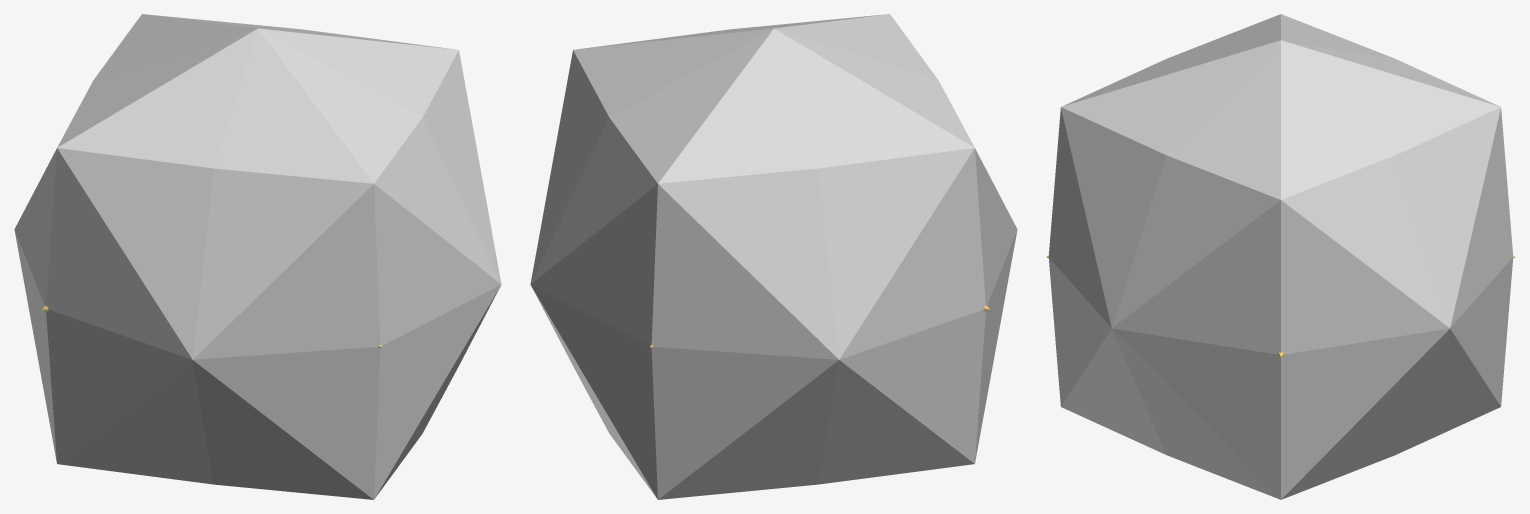
File: CristalSolar.fbx
3 renders of one model, left to right at view 1: azimuth 30°, elevation 25°; view 2: azimuth 150°, elevation 25°; view 3: azimuth 270°, elevation 25°, orthographic. The views are drawn at different scales.
Visible parts, largest first — view 1: Cubo.001; view 2: Cubo.001; view 3: Cubo.001.
Part boxes in pixels (box(x1,y1,x2,y2)): Cubo.001: box(14, 14, 501, 499); Cubo.001: box(530, 14, 1017, 499); Cubo.001: box(1048, 14, 1513, 499).
Size of the model in its own units: 40.06 by 40.44 by 39.68.
